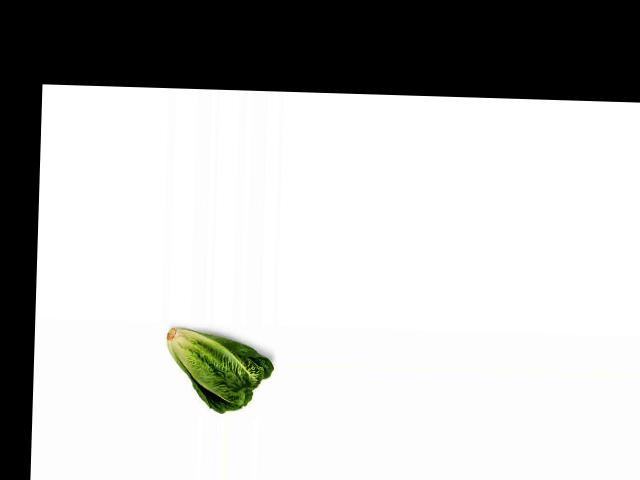lettuce: (157, 324, 274, 413)
